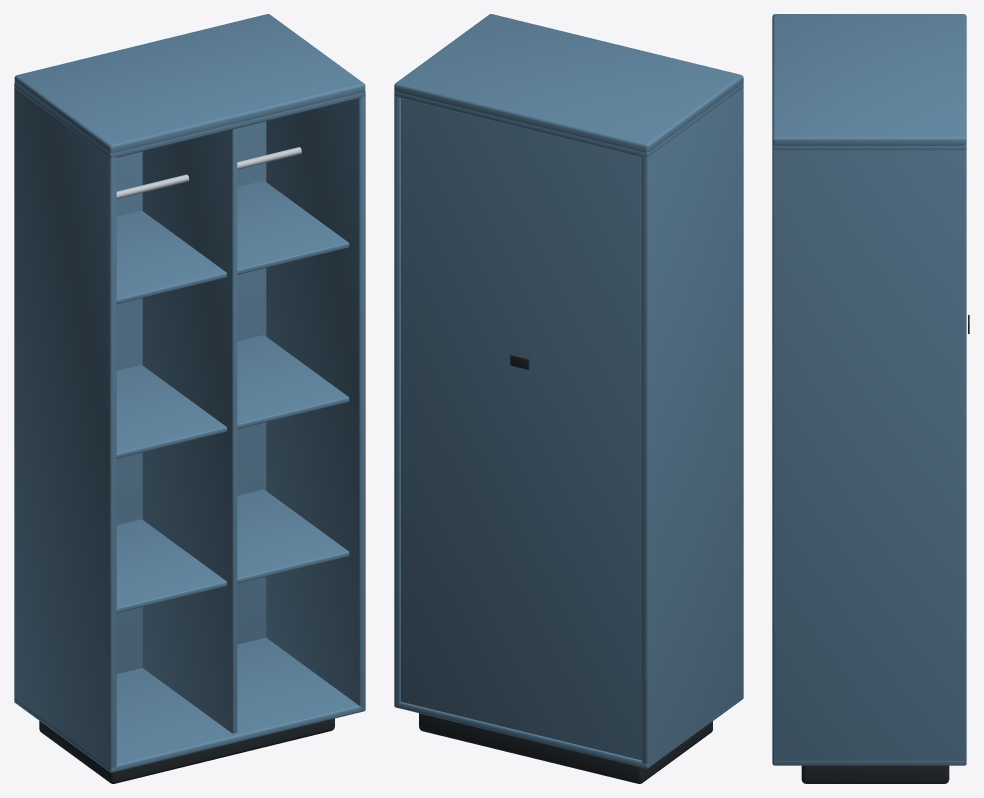
File: closet-hanging-module.glb
3 views of the same model, side by side, from view 1: azimuth 30°, elevation 25°; view 2: azimuth 150°, elevation 25°; view 3: azimuth 270°, elevation 25° (orthographic).
Visible parts, largest first — view 1: catalog_surface_RealismUV, catalog_surface_UVMap; view 2: catalog_surface_RealismUV, catalog_surface_UVMap; view 3: catalog_surface_RealismUV, catalog_surface_UVMap.
Boxes of the visible parts, x1,y1,x2,y2 form: catalog_surface_RealismUV: (14,14,365,772); catalog_surface_UVMap: (39,718,334,783); catalog_surface_RealismUV: (394,14,743,768); catalog_surface_UVMap: (419,355,712,783); catalog_surface_RealismUV: (772,14,966,765); catalog_surface_UVMap: (801,315,969,783).
Bounding box in the file's own units: 0.9 × 2.2 × 0.6.
